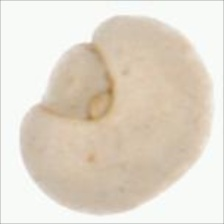L5: (36, 38, 127, 127), (153, 132, 209, 198)
L6: (18, 12, 216, 219)
